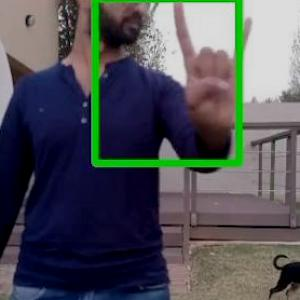takeoff-hand: (168, 1, 260, 137)
